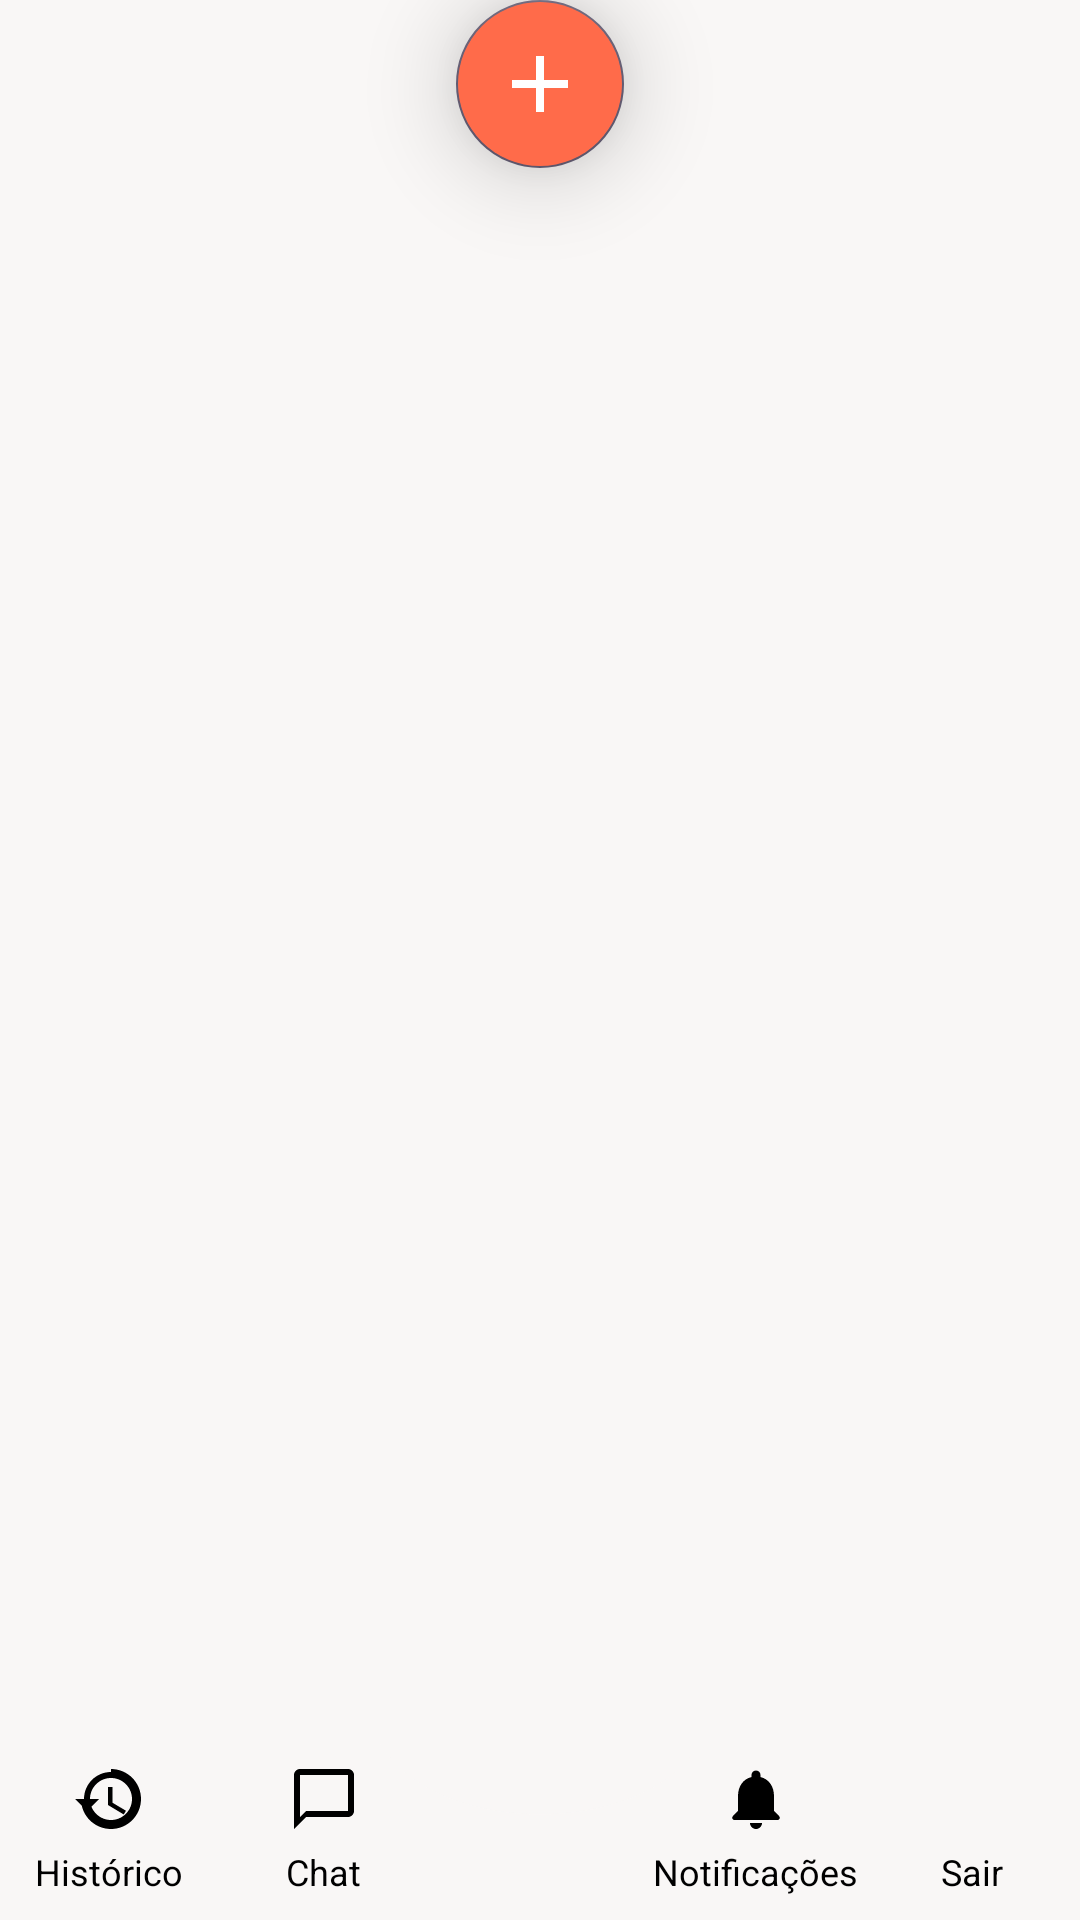

Icons on this 1080 × 1920 Android screen, each with its box as (x1, y1, x2, y2):
add: (456, 0, 624, 168)
